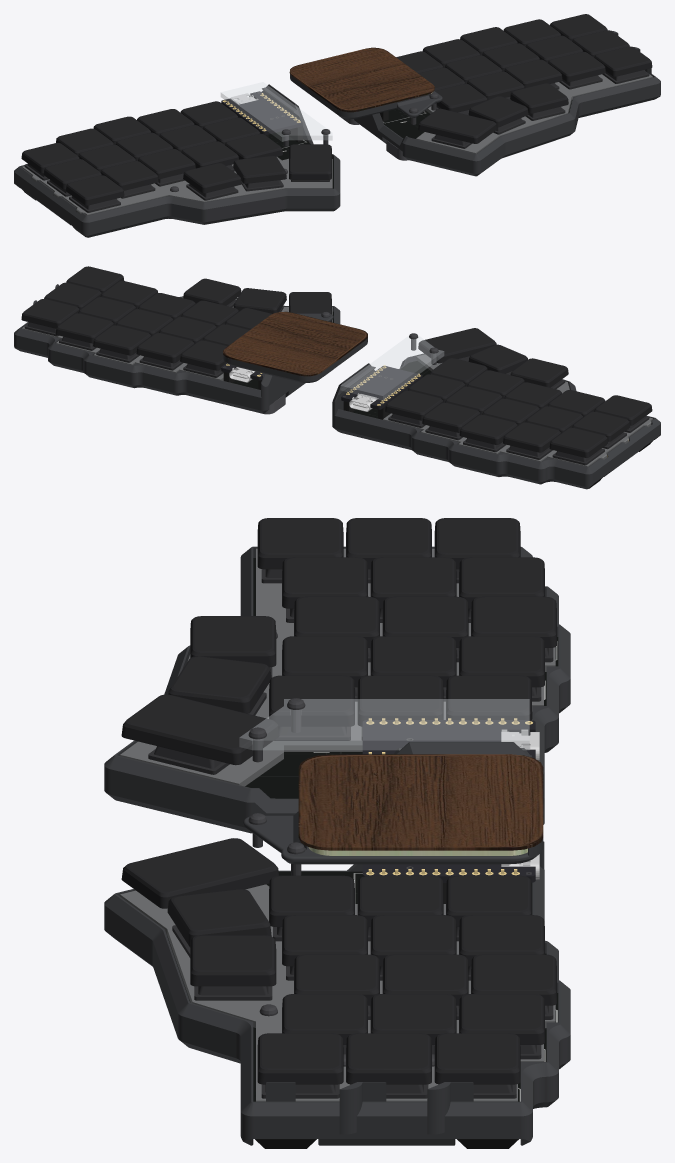
The model's file is corne.glb.
3 views of the same model, one above another, from view 1: azimuth 30°, elevation 25°; view 2: azimuth 150°, elevation 25°; view 3: azimuth 270°, elevation 25° (orthographic). The views are drawn at different scales.
Parts seen in each view (by area): view 1: CaseL, CaseR, Veneer, Pexi, KeyPlate, Keycap 39, NiceNano board L, KeyPlate (1), Keycap 38, TouchpadHolder, Keycap 36, Keycap 25 (+36 smaller); view 2: CaseL, CaseR, Veneer, Pexi, Keycap 38, NiceNano board L, Keycap 1, KeyPlate, TouchpadHolder, Keycap 2, Keycap 3, Keycap 7 (+35 smaller); view 3: Veneer, CaseR, CaseL, Pexi, Keycap 38, Keycap 39, KeyPlate (1), KeyPlate, Keycap 41, Keycap 34, Keycap 10, Keycap 22 (+42 smaller).
Boxes of the visible parts, box(x1,y1,x2,y2) form: CaseL: box(14, 84, 340, 237); CaseR: box(354, 74, 660, 176); Veneer: box(289, 47, 434, 112); Pexi: box(221, 82, 332, 141); KeyPlate: box(22, 157, 332, 215); Keycap 39: box(418, 108, 496, 143); NiceNano board L: box(221, 91, 302, 135); KeyPlate (1): box(416, 74, 652, 153); Keycap 38: box(289, 144, 331, 179); TouchpadHolder: box(290, 74, 442, 118); Keycap 36: box(183, 163, 241, 193); Keycap 25: box(65, 175, 124, 205); CaseL: box(332, 353, 660, 489); CaseR: box(14, 296, 340, 413); Veneer: box(223, 311, 367, 376); Pexi: box(340, 335, 443, 400); Keycap 38: box(418, 328, 496, 363); NiceNano board L: box(341, 366, 422, 409); Keycap 1: box(549, 427, 607, 457); KeyPlate: box(383, 354, 652, 466); TouchpadHolder: box(223, 313, 367, 382); Keycap 2: box(503, 422, 560, 452); Keycap 3: box(459, 414, 517, 444); Keycap 7: box(136, 333, 194, 363); Veneer: box(298, 754, 543, 850); CaseR: box(104, 841, 570, 1145); CaseL: box(104, 546, 570, 833); Pexi: box(239, 699, 529, 749); Keycap 38: box(121, 694, 279, 765); Keycap 39: box(121, 838, 278, 908); KeyPlate (1): box(120, 884, 555, 1101); KeyPlate: box(120, 548, 555, 786); Keycap 41: box(190, 935, 276, 986); Keycap 34: box(257, 1033, 343, 1084); Keycap 10: box(434, 1033, 520, 1084); Keycap 22: box(346, 1033, 431, 1084).
Size of the model in its own units: 0.2575 by 0.0223 by 0.0896.
Materials: 19 (4 with a texture image).
